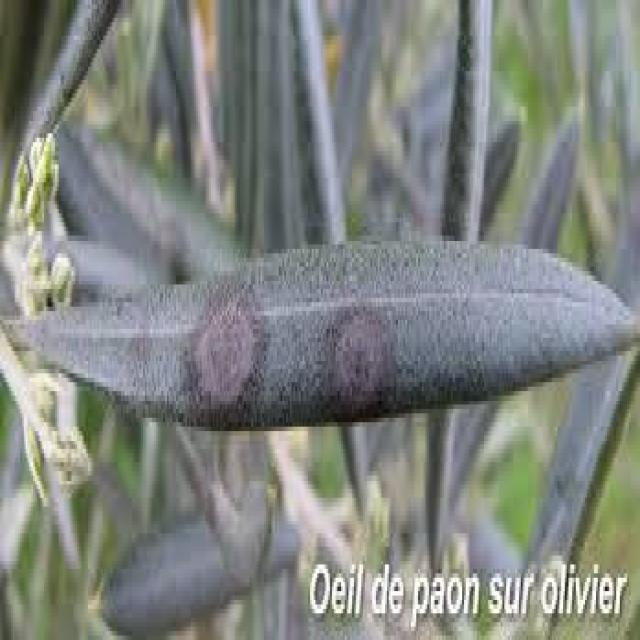OlivePeacockSpot: (35, 240, 634, 427)
